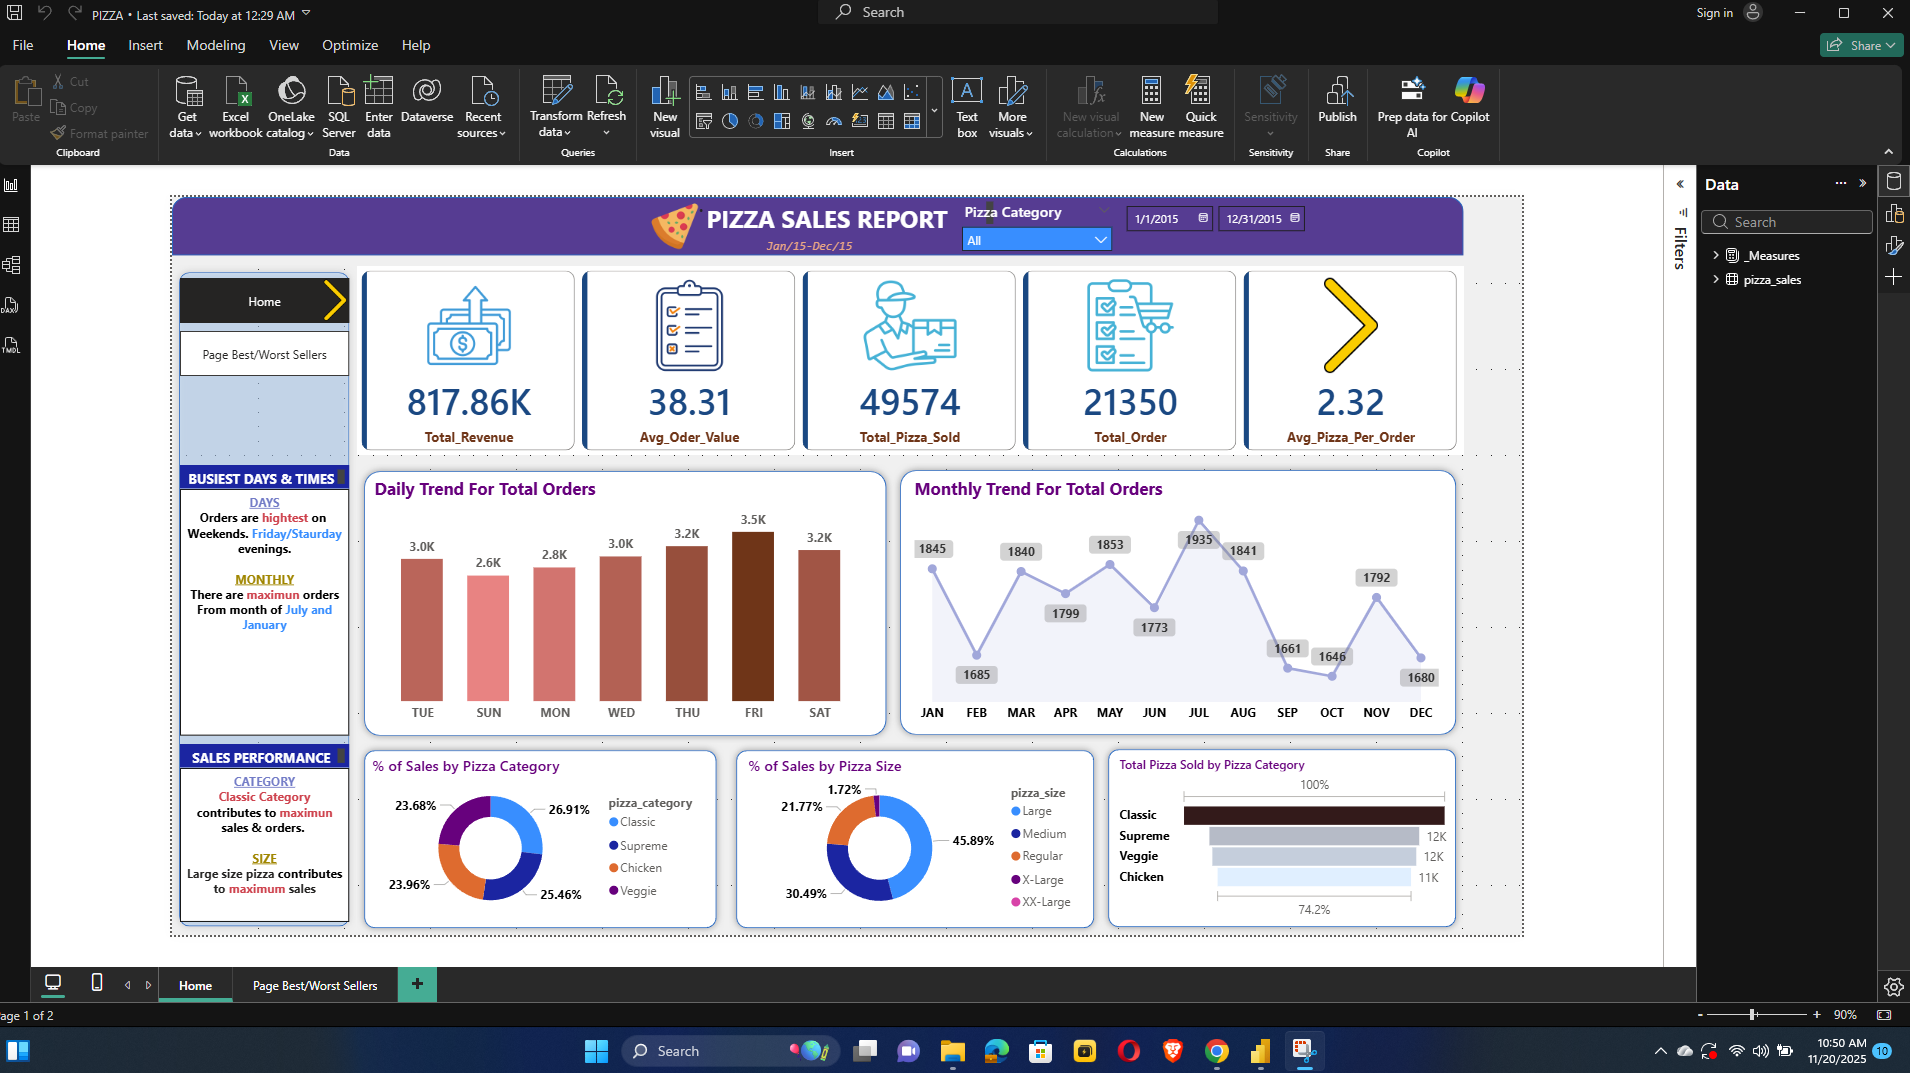

This screenshot's page, from the dashboard's own definition file:
{"tool":"powerbi","page":{"name":"Home","canvas":[1500,820],"ordinal":0},"visuals":[{"type":"shape","box":[0,76,205,743],"z":0},{"type":"textbox","box":[9,298,188,26],"z":1000},{"type":"cardVisual","fields":{"Data":["_Measures.Total_Revenue","_Measures.Avg_Oder_Value","_Measures.Total_Pizza_Sold","_Measures.Total_Order","_Measures.Avg_Pizza_Per_Order"]},"box":[205,76.2,1230,210],"z":2000},{"type":"shape","box":[0,0,1435,65],"z":3000},{"type":"textbox","box":[526.2,0,391.2,40],"z":4000},{"type":"textbox","box":[655,40,123.8,27.5],"z":5000},{"type":"image","box":[526.2,0,63.8,65],"z":6000},{"type":"shape","box":[205,296.2,596.2,310],"z":7000},{"type":"columnChart","title":"Daily Trend For Total Orders","fields":{"Category":["pizza_sales.Order Day"],"Y":["_Measures.Total_Order"]},"box":[220,311,559,280],"z":8000},{"type":"shape","box":[801.2,295,633.8,310],"z":9000},{"type":"areaChart","title":"Monthly Trend For Total Orders","fields":{"Y":["_Measures.Total_Order"],"Category":["pizza_sales.Order Month"]},"box":[820,311.2,592.5,280],"z":10000},{"type":"shape","box":[205,606.2,407.5,213.8],"z":11000},{"type":"shape","box":[618.8,606.2,413.8,213.8],"z":12000},{"type":"shape","box":[1032.5,605,402.5,213.8],"z":13000},{"type":"donutChart","title":"% of Sales by Pizza Category","fields":{"Category":["pizza_sales.pizza_category"],"Y":["_Measures.Total_Revenue"]},"box":[217.5,621.2,381.2,183.8],"z":14000},{"type":"donutChart","title":"% of Sales by Pizza Size","fields":{"Y":["_Measures.Total_Revenue"],"Category":["pizza_sales.pizza_size"]},"box":[635,621.2,381.2,183.8],"z":15000},{"type":"funnel","title":"Total Pizza Sold by Pizza Category","fields":{"Category":["pizza_sales.pizza_category"],"Y":["_Measures.Total_Pizza_Sold"]},"box":[1047.5,621.2,376.2,183.8],"z":16000},{"type":"textbox","box":[9,324,188,274],"z":17000},{"type":"textbox","box":[9,608,188,26],"z":18000},{"type":"textbox","box":[9,634,188,171],"z":19000},{"type":"slicer","fields":{"Values":["pizza_sales.pizza_category"]},"box":[868,0,187,65],"z":20000},{"type":"slicer","fields":{"Values":["pizza_sales.order_date"]},"box":[1048,0,232,65],"z":21000},{"type":"pageNavigator","box":[9,90,188,50],"z":21001},{"type":"pageNavigator","box":[9,149,188,50],"z":21002},{"type":"image","box":[144,87,74,56],"z":21003}]}

Visuals, with their boxes on the page's 1500x820 design canvas (x1, y1, x2, y2). These are canvas units, not pixel positions in the 1910x1073 screenshot, which may show the page scaled, cropped or inside an application window:
shape: locate(0, 76, 205, 819)
textbox: locate(9, 298, 197, 324)
cardVisual - _Measures.Total_Revenue x _Measures.Avg_Oder_Value: locate(205, 76, 1435, 286)
shape: locate(0, 0, 1435, 65)
textbox: locate(526, 0, 917, 40)
textbox: locate(655, 40, 779, 68)
image: locate(526, 0, 590, 65)
shape: locate(205, 296, 801, 606)
"Daily Trend For Total Orders" columnChart: locate(220, 311, 779, 591)
shape: locate(801, 295, 1435, 605)
"Monthly Trend For Total Orders" areaChart: locate(820, 311, 1412, 591)
shape: locate(205, 606, 612, 820)
shape: locate(619, 606, 1033, 820)
shape: locate(1032, 605, 1435, 819)
"% of Sales by Pizza Category" donutChart: locate(218, 621, 599, 805)
"% of Sales by Pizza Size" donutChart: locate(635, 621, 1016, 805)
"Total Pizza Sold by Pizza Category" funnel: locate(1048, 621, 1424, 805)
textbox: locate(9, 324, 197, 598)
textbox: locate(9, 608, 197, 634)
textbox: locate(9, 634, 197, 805)
slicer - pizza_sales.pizza_category: locate(868, 0, 1055, 65)
slicer - pizza_sales.order_date: locate(1048, 0, 1280, 65)
pageNavigator: locate(9, 90, 197, 140)
pageNavigator: locate(9, 149, 197, 199)
image: locate(144, 87, 218, 143)
